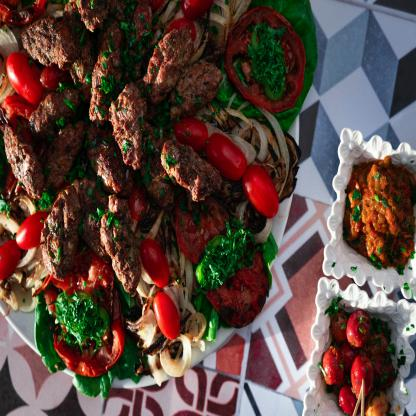Carne: (76, 21, 127, 118), (48, 175, 95, 274), (94, 206, 145, 291), (146, 21, 194, 104), (31, 121, 86, 193), (160, 61, 222, 118), (106, 81, 146, 168), (159, 136, 212, 199), (1, 124, 43, 200), (20, 14, 74, 68), (31, 86, 82, 140)
